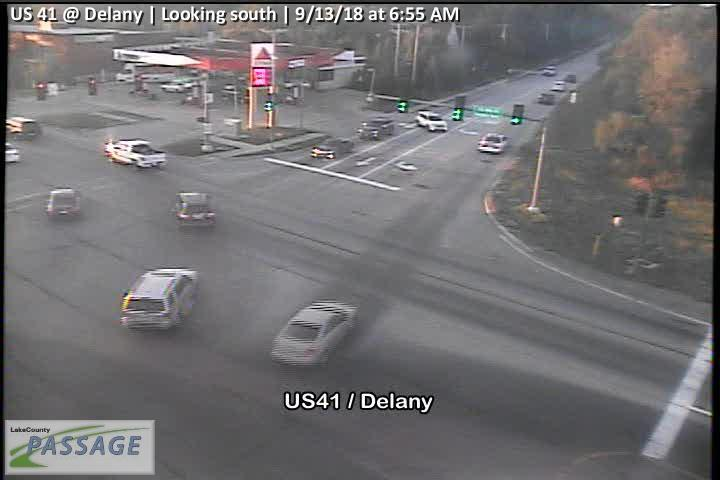SUV: (120, 267, 201, 331), (171, 189, 218, 231), (3, 115, 44, 143), (357, 118, 392, 142), (415, 110, 449, 133), (160, 81, 186, 94), (221, 83, 240, 97), (542, 64, 559, 77), (553, 80, 565, 92)
Sedan: (268, 298, 360, 368), (45, 188, 84, 217), (310, 139, 351, 159), (477, 131, 511, 154), (536, 91, 556, 105), (565, 72, 578, 81)
Truck: (103, 139, 167, 169), (115, 63, 180, 84)
